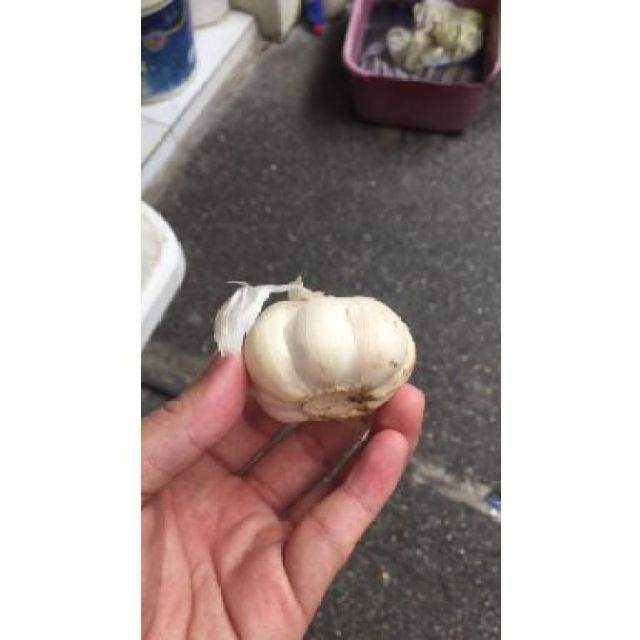Garlic: (209, 274, 438, 430)
